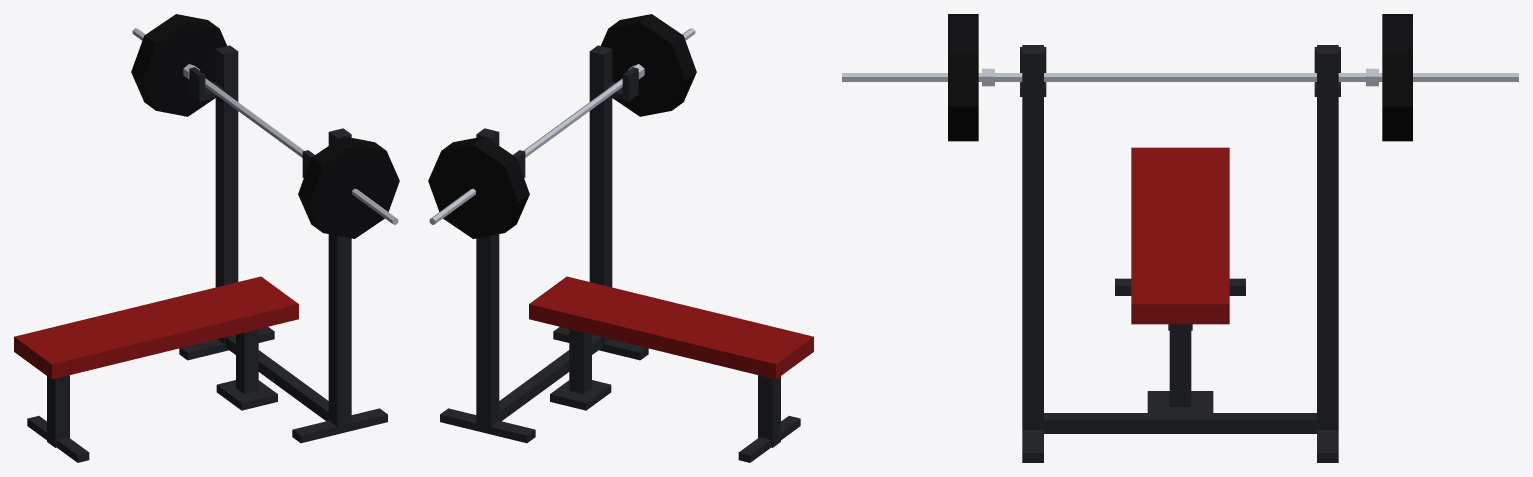
Rendered from BenchPress.obj.
The picture shows the model from 3 angles, left to right: view 1: azimuth 30°, elevation 25°; view 2: azimuth 150°, elevation 25°; view 3: azimuth 270°, elevation 25°; orthographic projection. The views are drawn at different scales.
Parts seen in each view (by area): view 1: BenchPress_Frame, BenchPress_Plate, BenchPress_Pad, BenchPress_Bar; view 2: BenchPress_Frame, BenchPress_Plate, BenchPress_Pad, BenchPress_Bar; view 3: BenchPress_Frame, BenchPress_Pad, BenchPress_Plate, BenchPress_Bar.
Part boxes in pixels (<box>): BenchPress_Frame: <box>27,45,387,462</box>; BenchPress_Plate: <box>131,14,399,238</box>; BenchPress_Pad: <box>14,276,298,379</box>; BenchPress_Bar: <box>132,28,398,224</box>; BenchPress_Frame: <box>440,45,800,462</box>; BenchPress_Plate: <box>428,14,696,238</box>; BenchPress_Pad: <box>529,276,813,379</box>; BenchPress_Bar: <box>429,28,695,224</box>; BenchPress_Frame: <box>1020,45,1340,462</box>; BenchPress_Pad: <box>1131,147,1229,324</box>; BenchPress_Plate: <box>948,14,1412,141</box>; BenchPress_Bar: <box>842,68,1518,86</box>.
Bounding box in the file's own units: 4.05 × 4.12 × 6.2.
